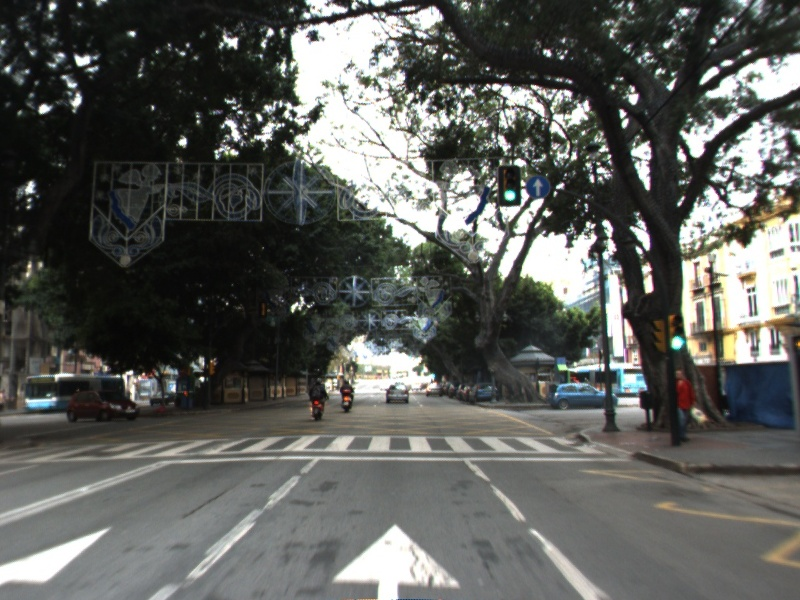STRAIGHT: (328, 520, 465, 600), (1, 522, 116, 593)
